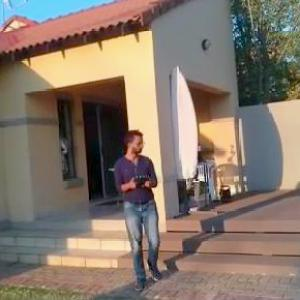follow: (113, 128, 164, 294)
